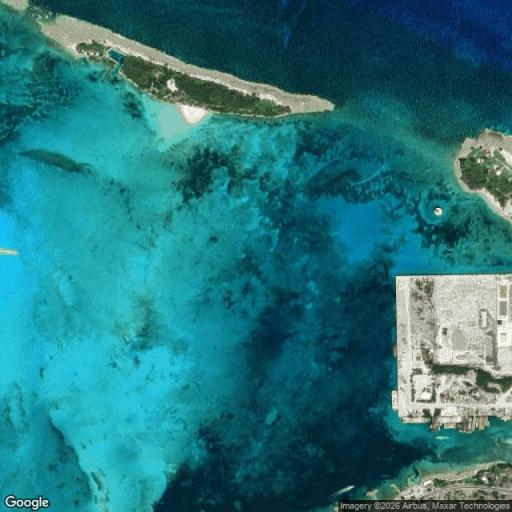ship: (331, 482, 360, 496), (392, 389, 399, 414), (470, 415, 477, 432), (467, 416, 473, 434), (477, 416, 483, 431), (393, 342, 398, 359), (464, 418, 469, 434), (483, 417, 489, 427), (475, 416, 479, 430)
